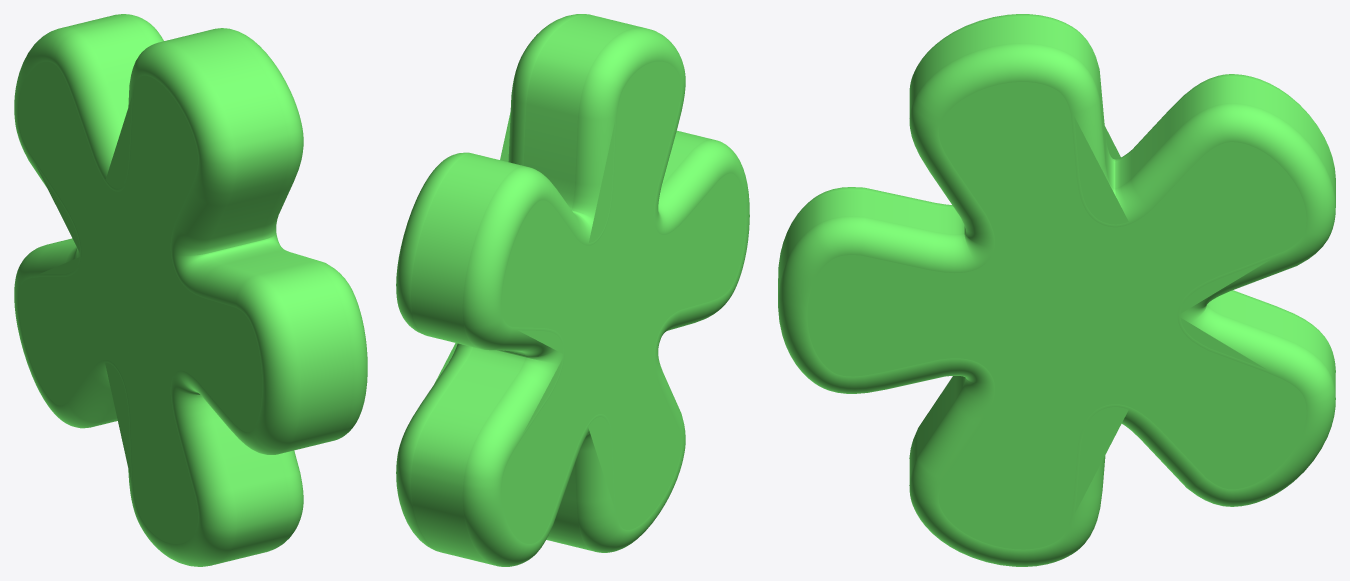
File: green-flower.fbx
3 renders of one model, left to right at view 1: azimuth 30°, elevation 25°; view 2: azimuth 150°, elevation 25°; view 3: azimuth 270°, elevation 25°, orthographic. The views are drawn at different scales.
Parts seen in each view (by area): view 1: Extrude; view 2: Extrude; view 3: Extrude.
Boxes of the visible parts, left/top/right/bottom form: Extrude: left=14, top=14, right=367, bottom=566; Extrude: left=396, top=14, right=749, bottom=566; Extrude: left=778, top=14, right=1335, bottom=566.
Size of the model in its own units: 17.61 by 84.56 by 82.1.
